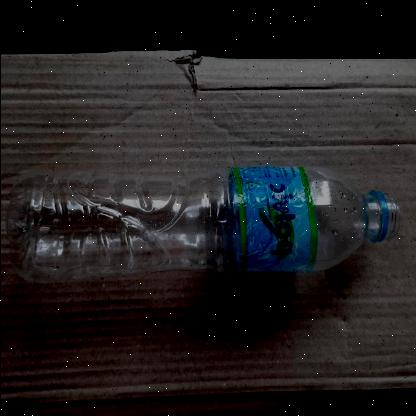Plastic Bottle: (4, 164, 402, 276)
